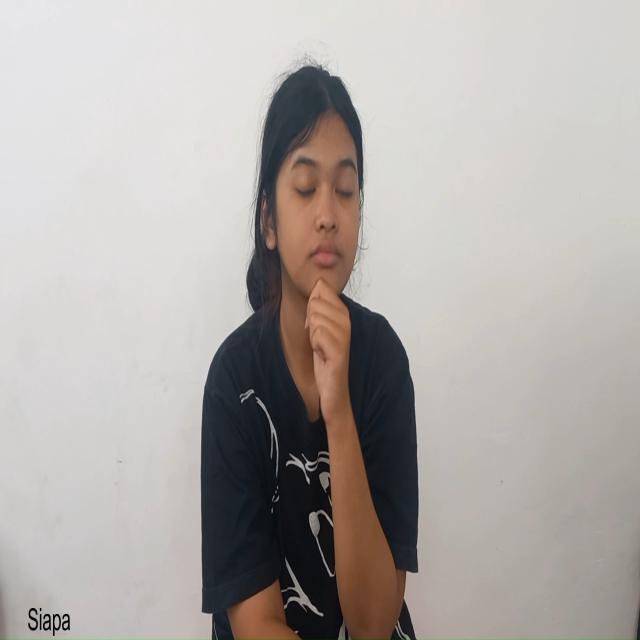Siapa -BISINDO-: (245, 56, 383, 472)
